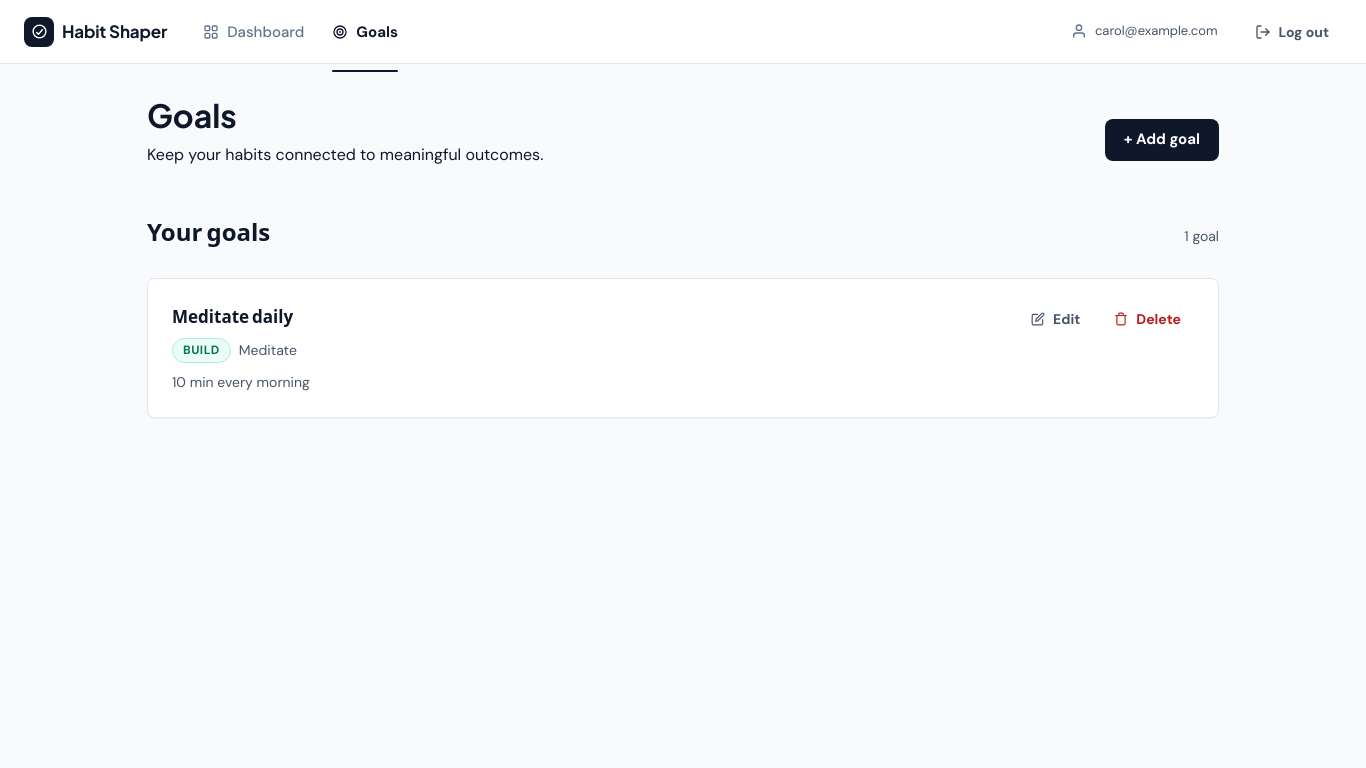
Test: Phase 9 goals › 12. dialog closes via backdrop click
Check: the heading "Goals" is shown, box top-left (147, 95), bottom-right (237, 135)
Click the button "+ Add goal" at [1162, 140], box top-left (1105, 119), bottom-right (1219, 161)
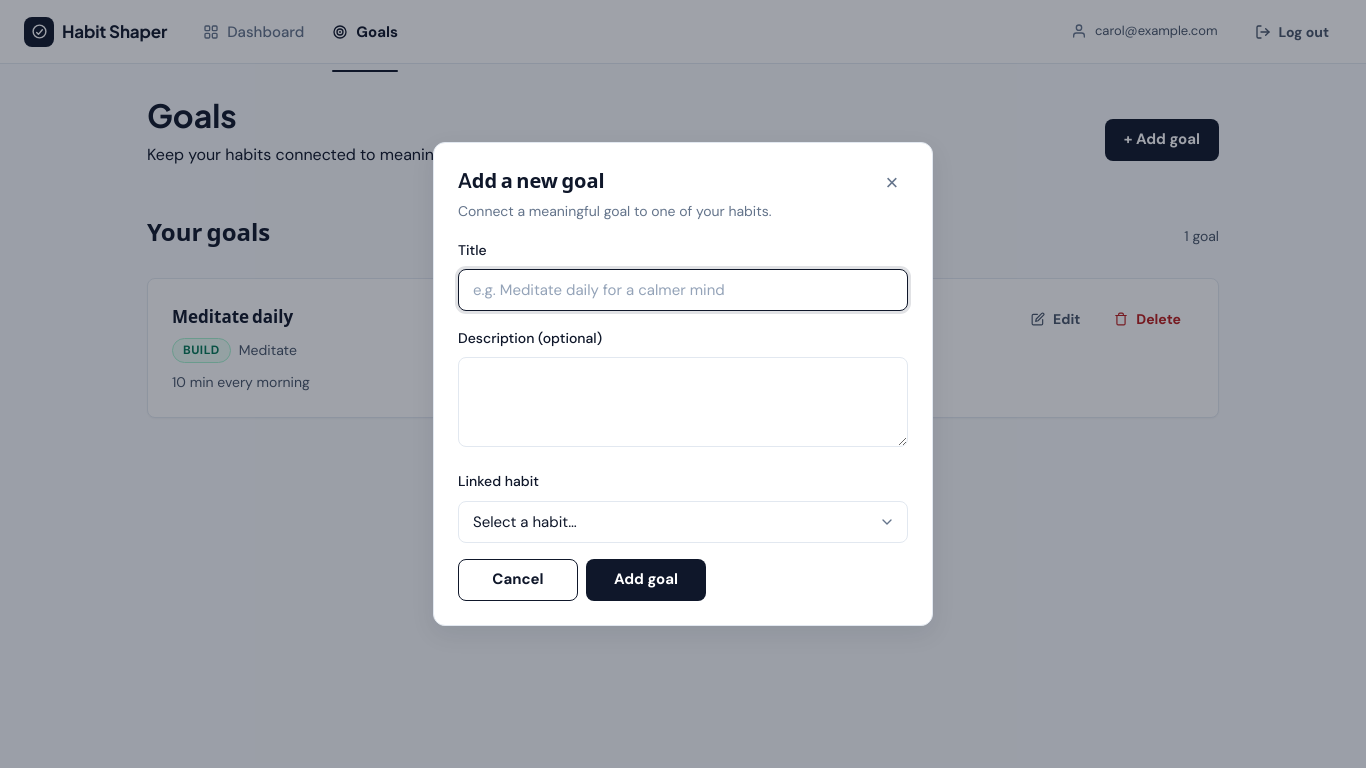
Click the element with class "modal-backdrop" at [82, 384], box top-left (0, 0), bottom-right (1365, 767)
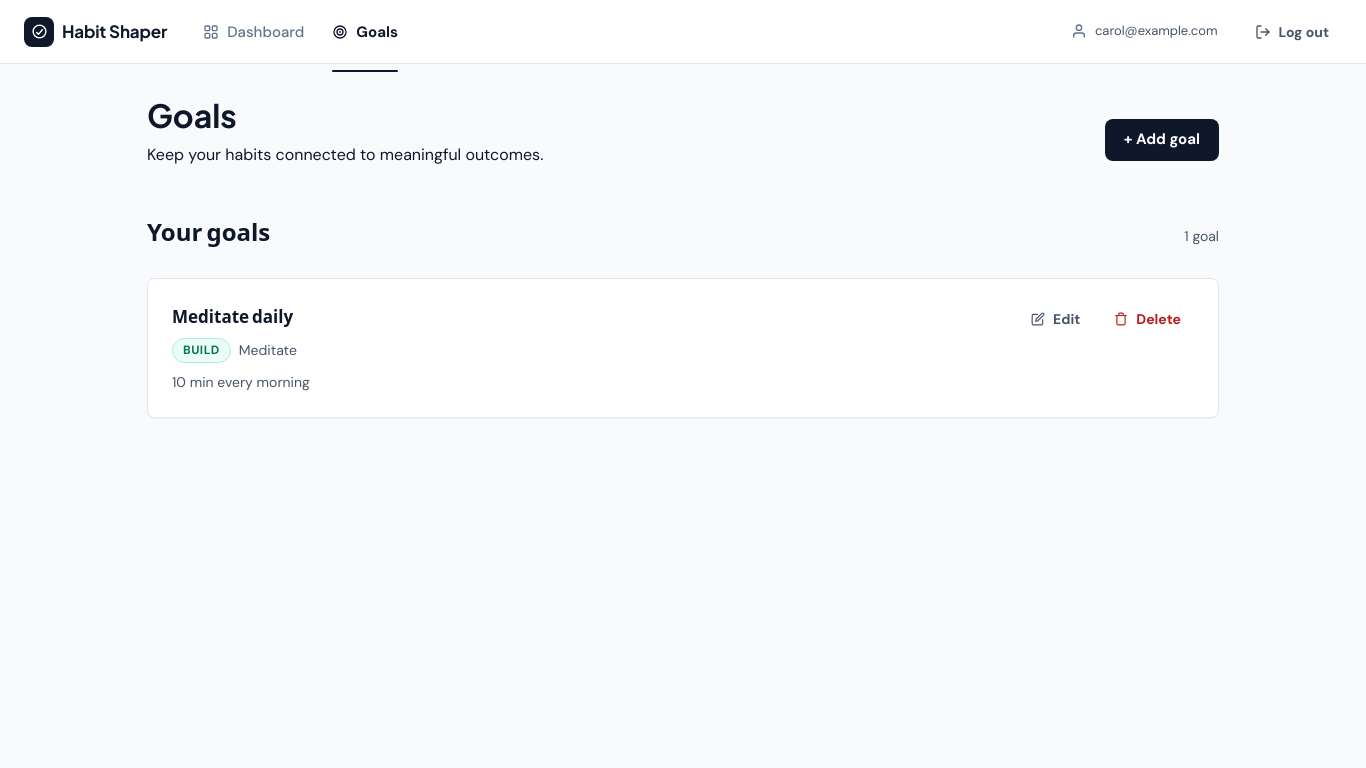
Check: the dialog is gone
